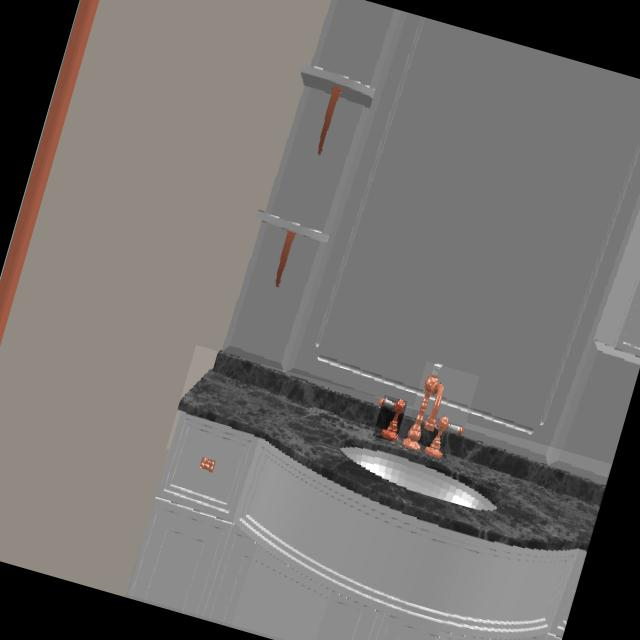cabinet: (128, 413, 585, 640)
countertop: (179, 353, 604, 551)
washbasin: (343, 447, 495, 511), (402, 364, 463, 458), (380, 398, 404, 441)
